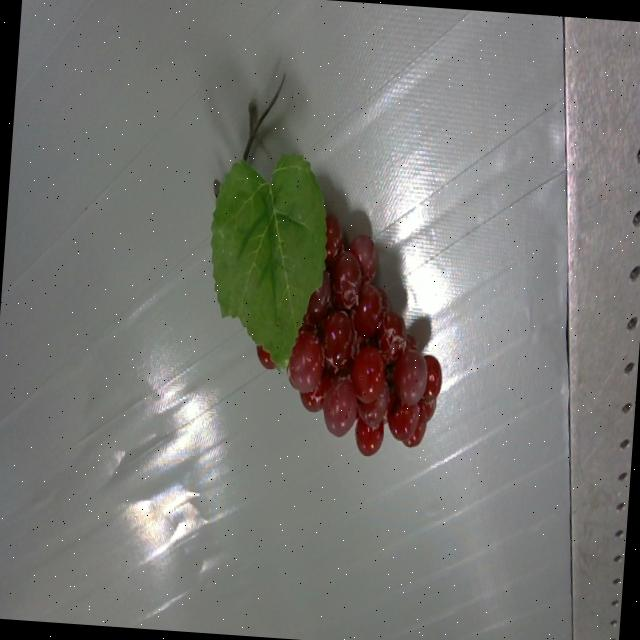grape: (211, 86, 441, 455)
